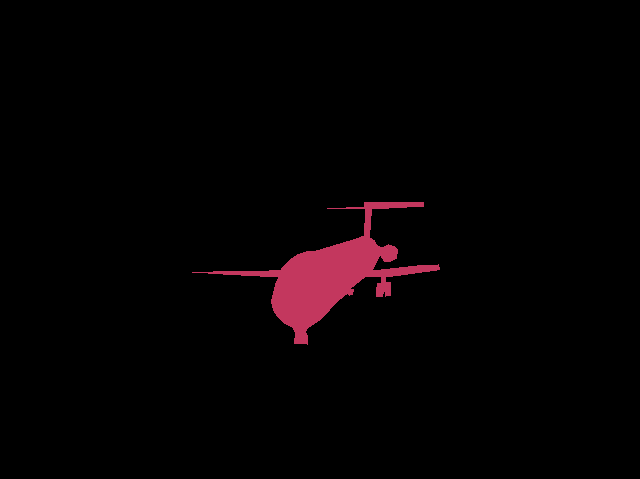Airplane: (192, 202, 439, 344)
